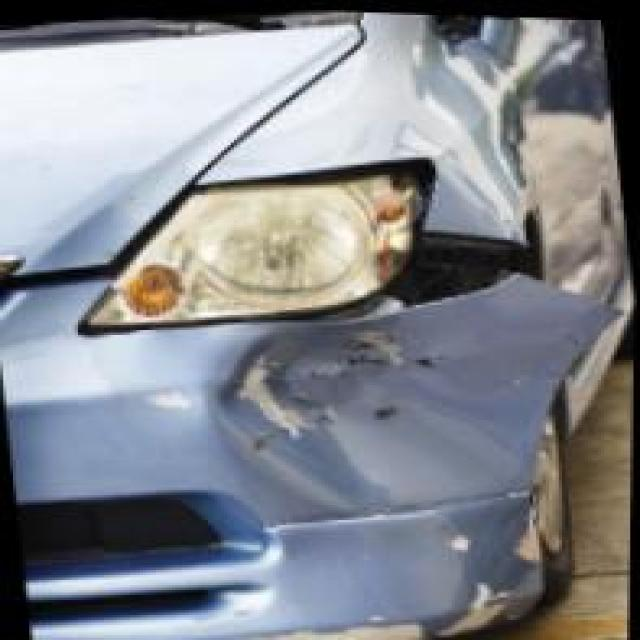Bumper: (0, 260, 624, 640)
Fender: (243, 76, 540, 250)
